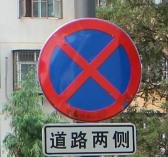No Parking: (39, 20, 143, 123)
